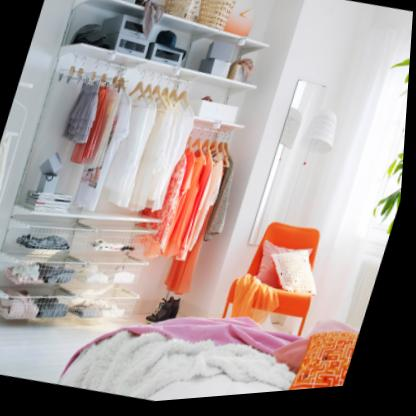Chair: (222, 215, 343, 349)
